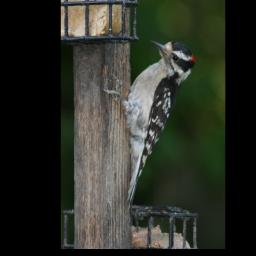Woodpecker: (103, 40, 195, 210)
